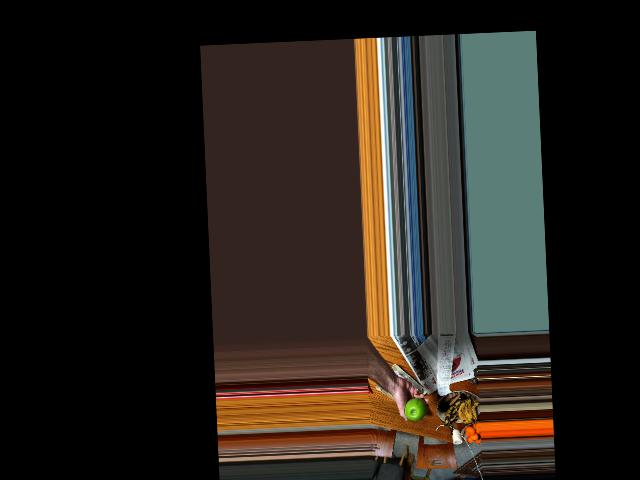apple: (402, 396, 426, 422)
